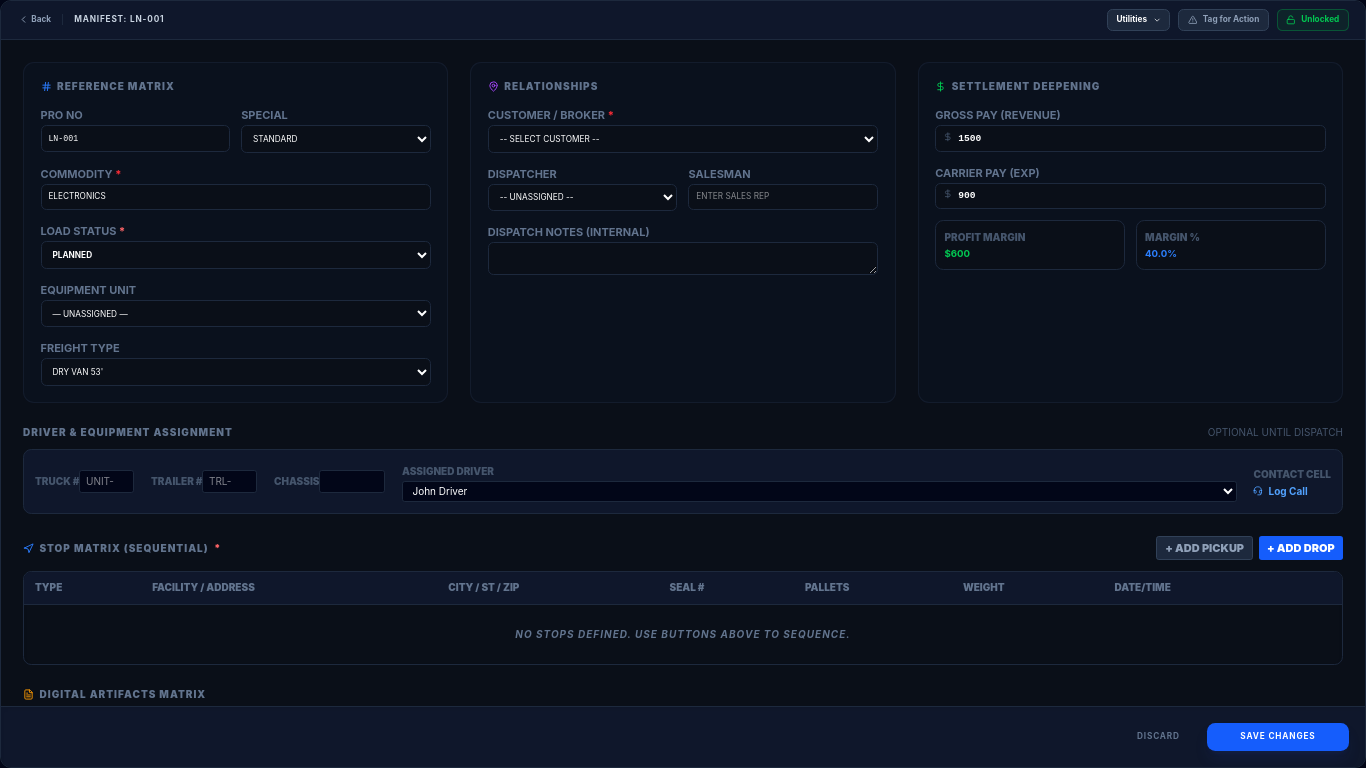
Scenario: EditLoadForm component › interactive elements › opens utilities dropdown on click
The width and height of the screenshot is (1366, 768).
Click the button "Utilities" at (1139, 20), box [1107,9,1170,31]
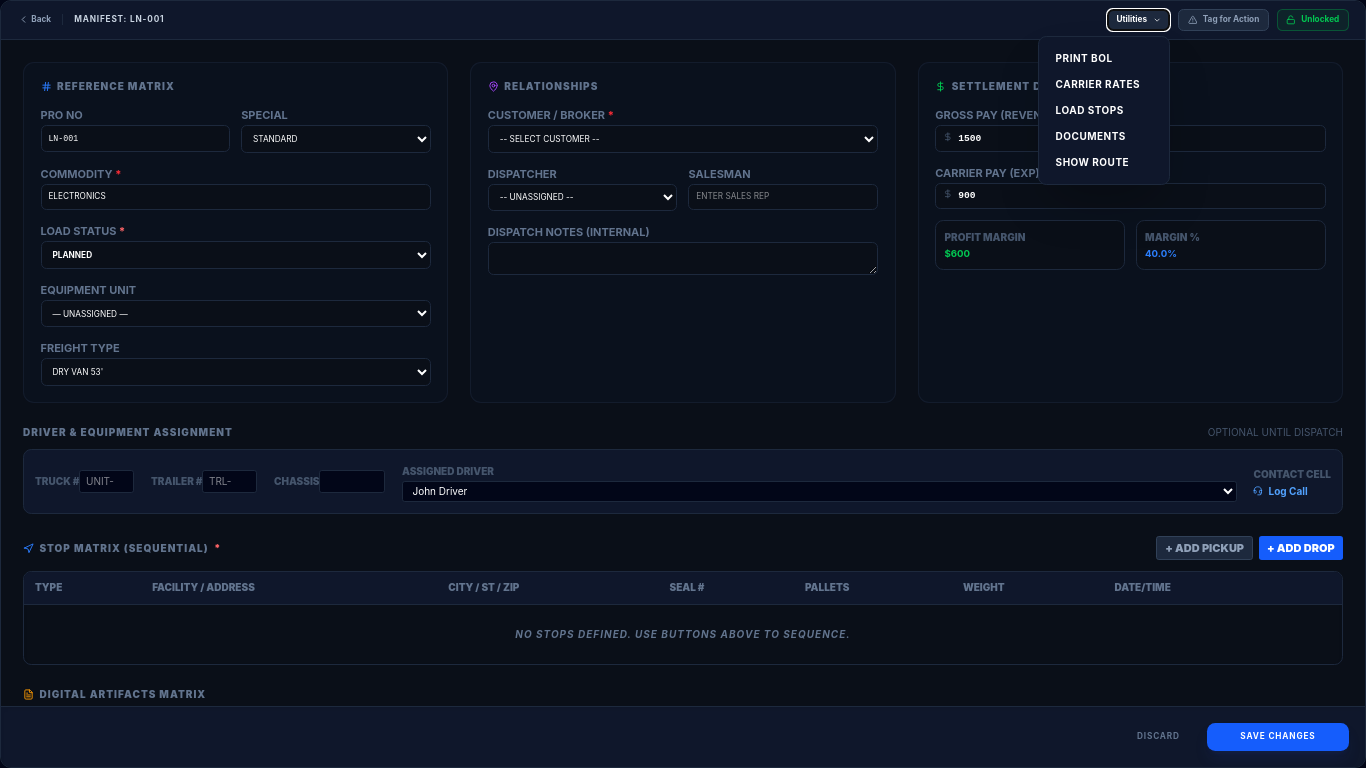
Expected: the button "Print BOL" is shown, [1045,45,1164,71]
Expected: the button "Carrier Rates" is shown, [1045,71,1164,97]
Expected: the button "Load Stops" is shown, [1045,97,1164,123]
